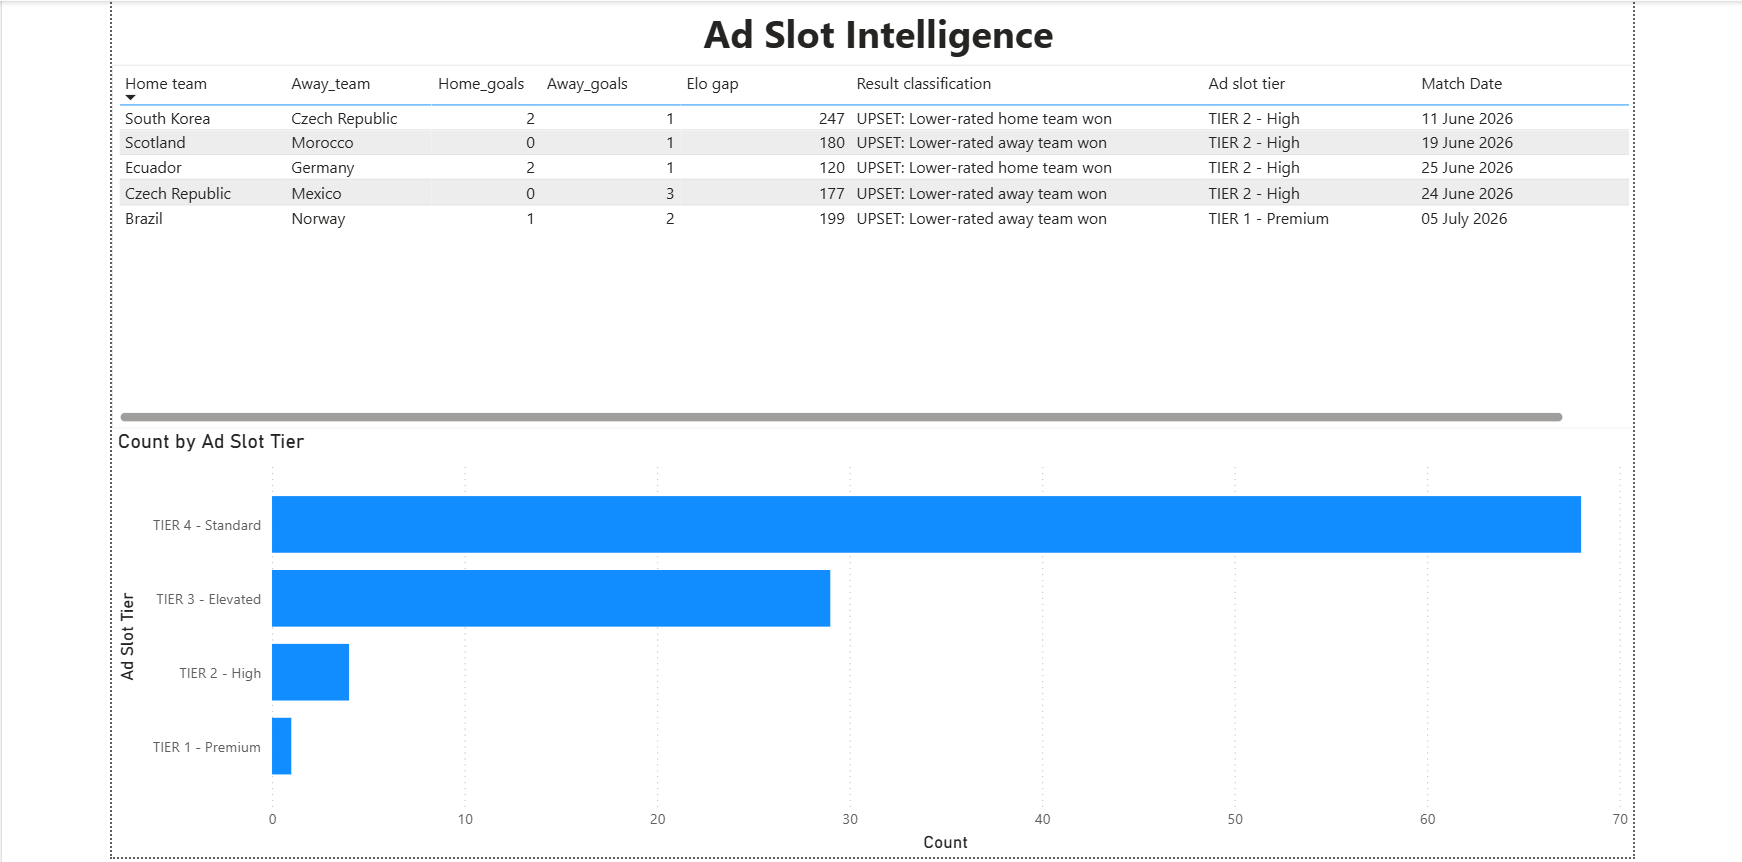

Layout of this report page (visuals, bound fields, positions):
{"tool":"powerbi","page":{"name":"Page 2","canvas":[1280,720],"ordinal":1},"visuals":[{"type":"textbox","box":[9.6,0,1270.7,53.5],"z":0},{"type":"tableEx","fields":{"Values":["high_engagement_matches.home_team","high_engagement_matches.away_team","Sum(high_engagement_matches.home_goals)","Sum(high_engagement_matches.away_goals)","Sum(high_engagement_matches.elo_gap)","high_engagement_matches.result_classification","high_engagement_matches.ad_slot_tier","high_engagement_matches.match_date"]},"box":[0,53.6,1280.6,306],"z":1},{"type":"barChart","fields":{"Category":["high_engagement_matches.ad_slot_tier"],"Y":["CountNonNull(high_engagement_matches.fixture_id)"]},"box":[0,359.5,1280.3,360.9],"z":2}]}

Visuals, with their boxes on the page's 1280x720 design canvas (x1, y1, x2, y2). These are canvas units, not pixel positions in the 1742x862 screenshot, which may show the page scaled, cropped or inside an application window:
textbox: <bbox>10, 0, 1280, 54</bbox>
tableEx - high_engagement_matches.home_team x high_engagement_matches.away_team: <bbox>0, 54, 1281, 360</bbox>
barChart - high_engagement_matches.ad_slot_tier x CountNonNull(high_engagement_matches.fixture_id): <bbox>0, 360, 1280, 720</bbox>
